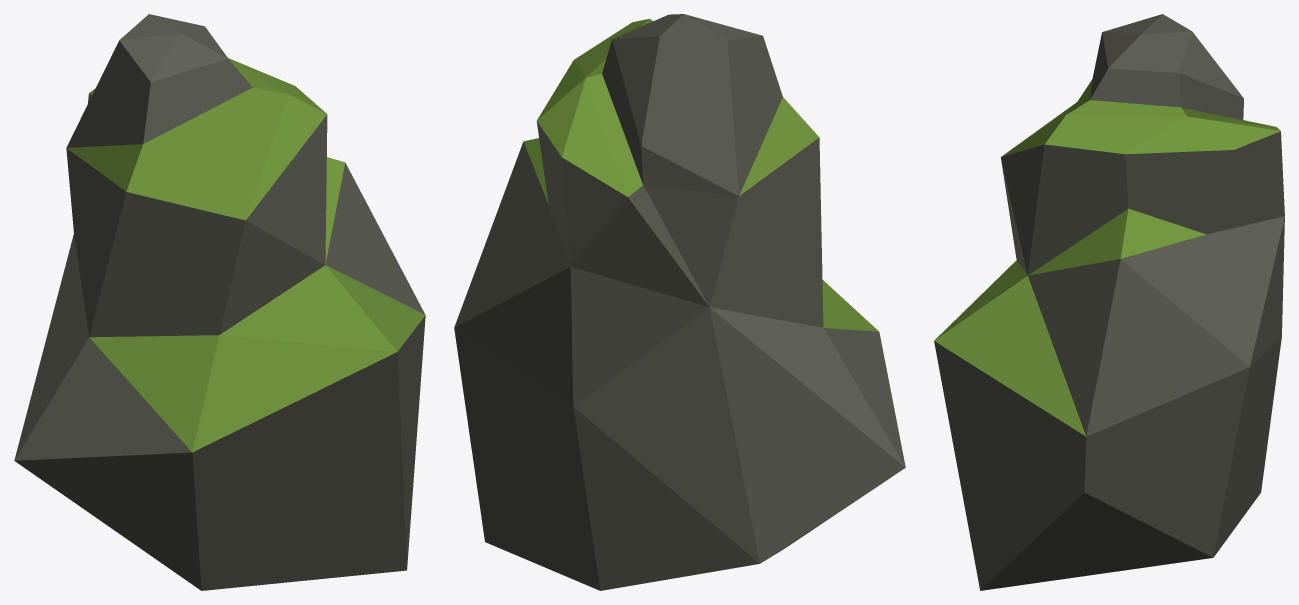
The model's file is green_rock_M_02.fbx.
3 views of the same model, side by side, from view 1: azimuth 30°, elevation 25°; view 2: azimuth 150°, elevation 25°; view 3: azimuth 270°, elevation 25° (orthographic). The views are drawn at different scales.
Parts seen in each view (by area): view 1: Cube.003; view 2: Cube.003; view 3: Cube.003.
Part boxes in pixels (x1,y1,x2,y2): Cube.003: [14, 14, 425, 590]; Cube.003: [454, 14, 905, 590]; Cube.003: [934, 14, 1284, 590].
Bounding box in the file's own units: 500 × 613 × 397.
